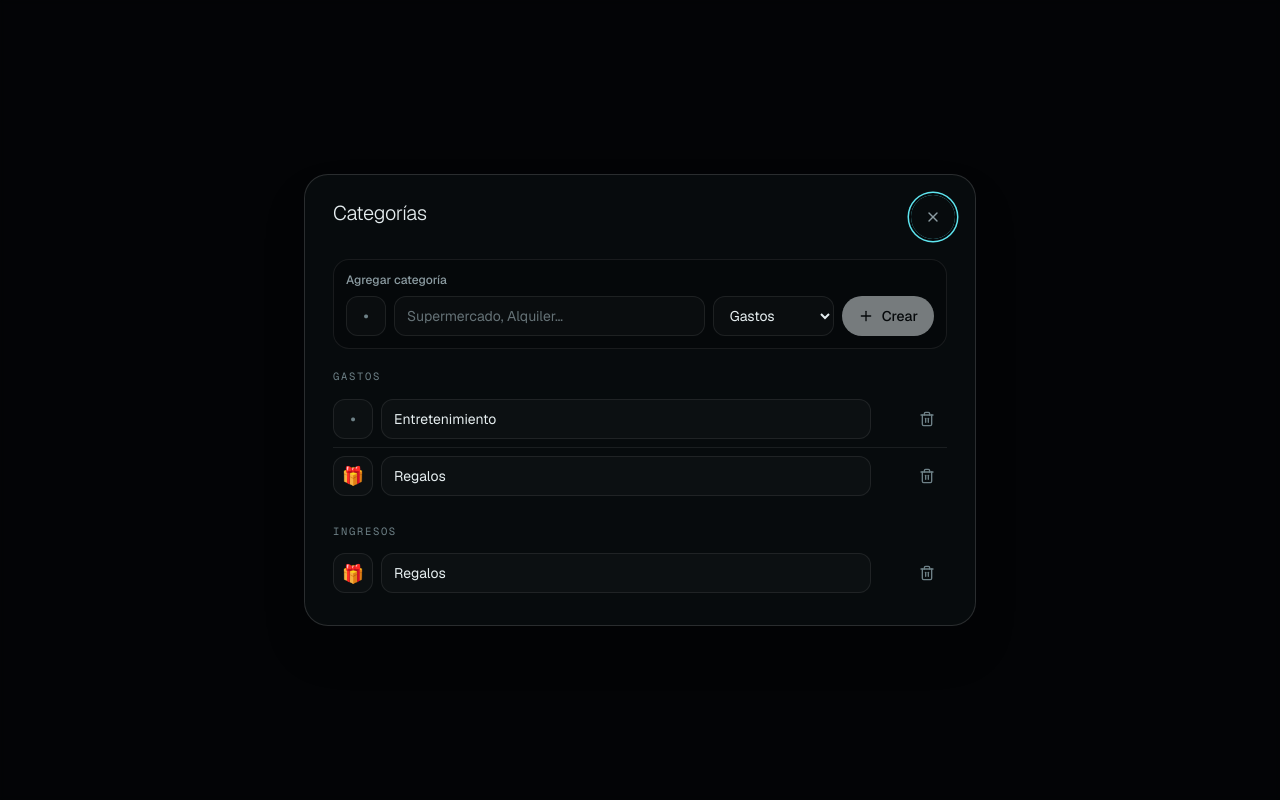
Scenario: categories › a failed save restores the saved name and says so
Step 1. Replace the text in the field named "Nombre: Entretenimiento" with "Ocio" → {"x": 626, "y": 418}, box 381,398 -> 871,438
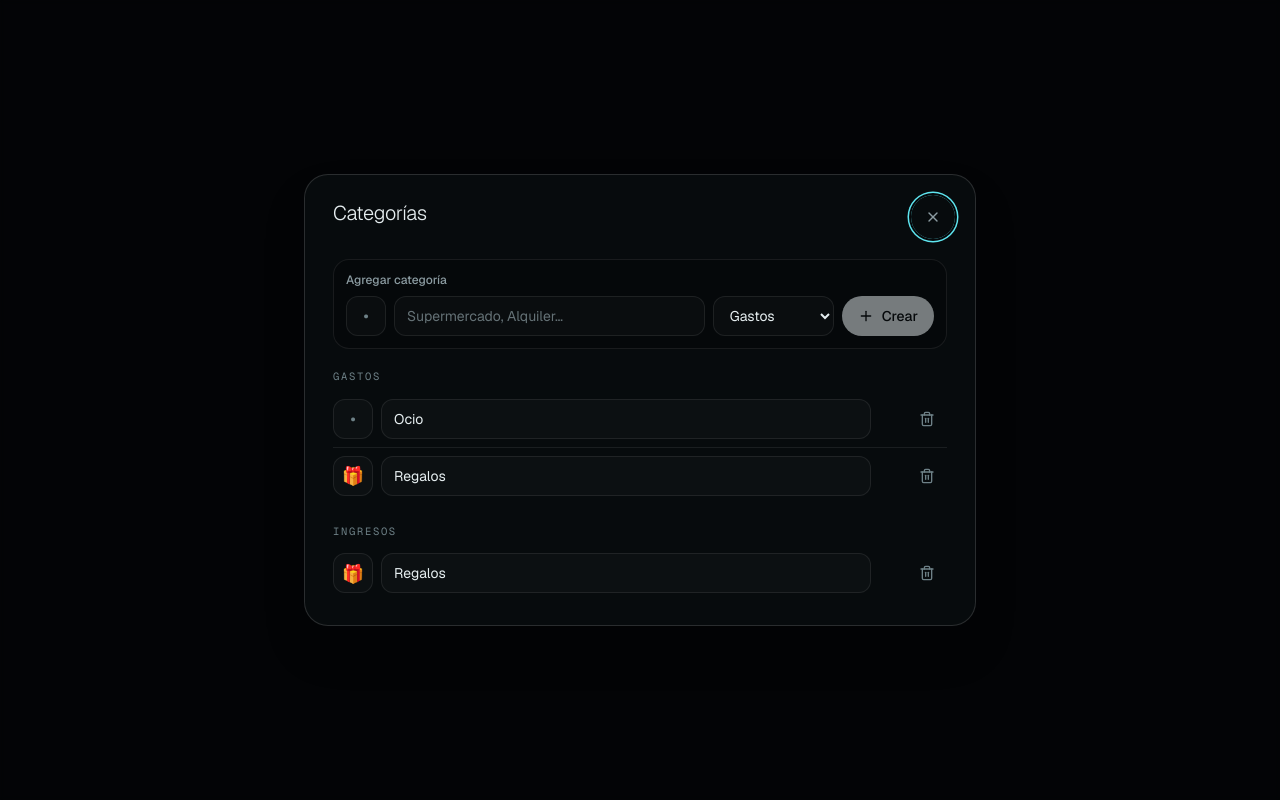
Step 2. Leave the field named "Nombre: Entretenimiento", box 381,398 -> 871,438
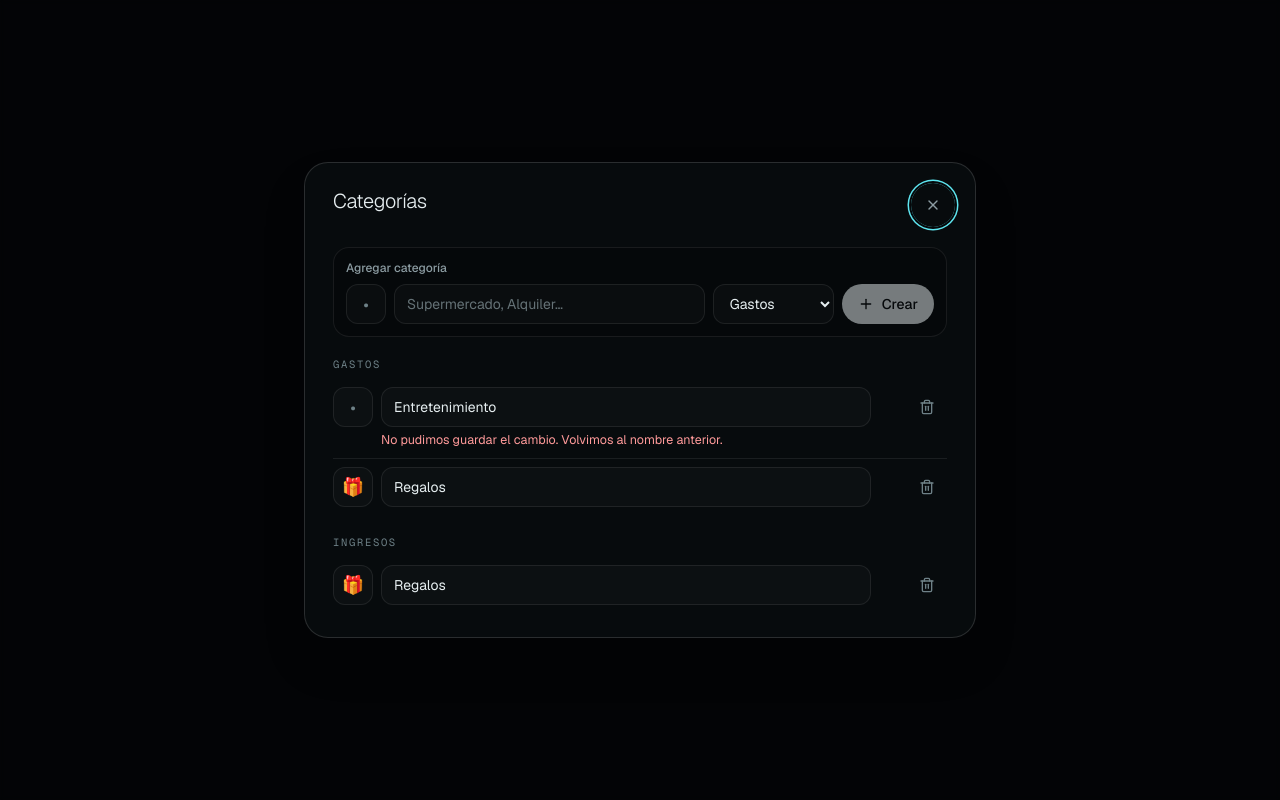
expect the message shows "No pudimos guardar": met, box 381,431 -> 722,448
expect the field named "Nombre: Entretenimiento" holds "Entretenimiento": met, box 381,387 -> 871,427
